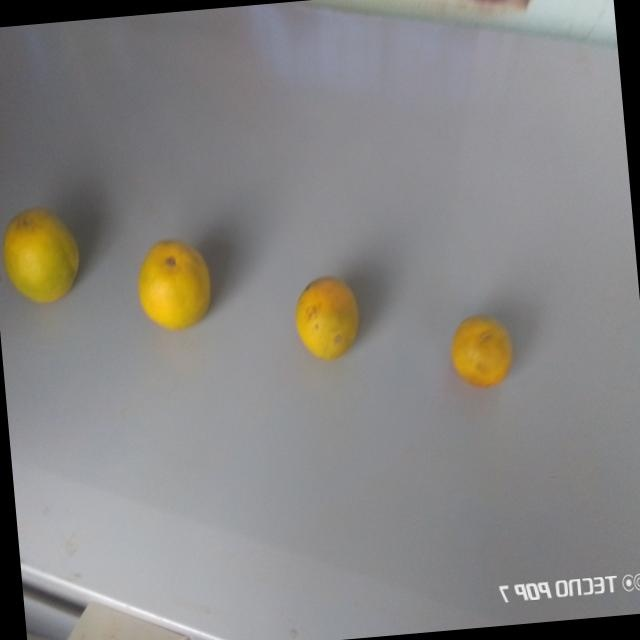agrume: (0, 201, 83, 312), (130, 236, 218, 336), (288, 266, 365, 376), (446, 304, 517, 399)
